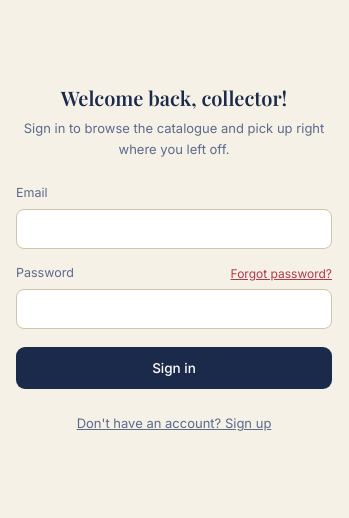
Test: Login — mode toggle › switches to the signup form and back
This screenshot has width=349, height=518.
Click the button "Don't have an account? Sign up".
click(174, 424)  # box x1=16 y1=413 x2=332 y2=434
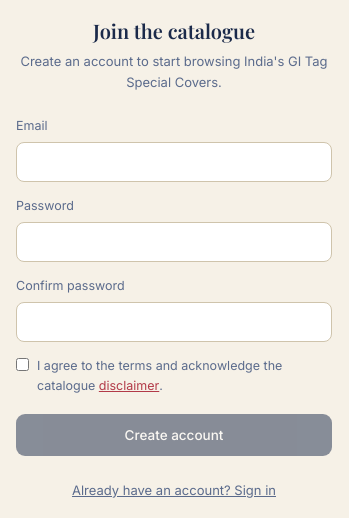
Expected: the heading "Join the catalogue" is shown, x1=93 y1=17 x2=255 y2=44
Click the button "Already have an account? Sign in".
click(174, 491)  # box x1=16 y1=480 x2=332 y2=501
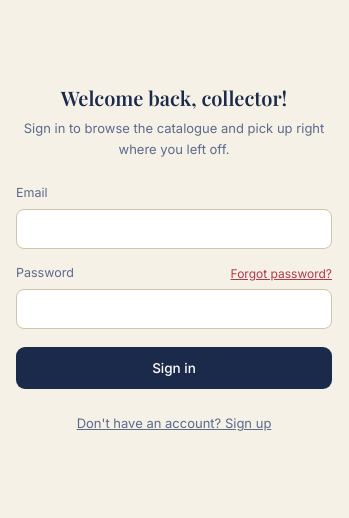
Expected: the heading "Welcome back, collector!" is shown, x1=61 y1=84 x2=287 y2=111
